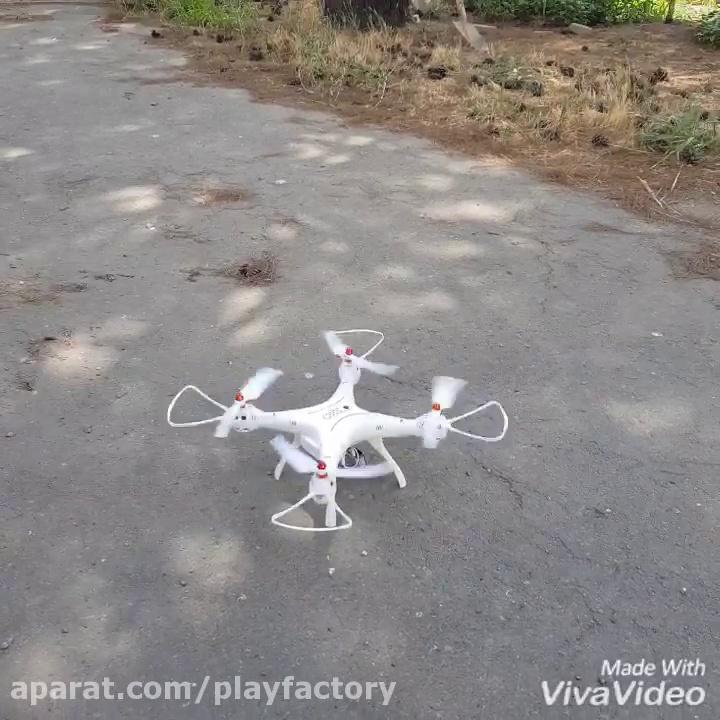drone: (162, 319, 514, 535)
